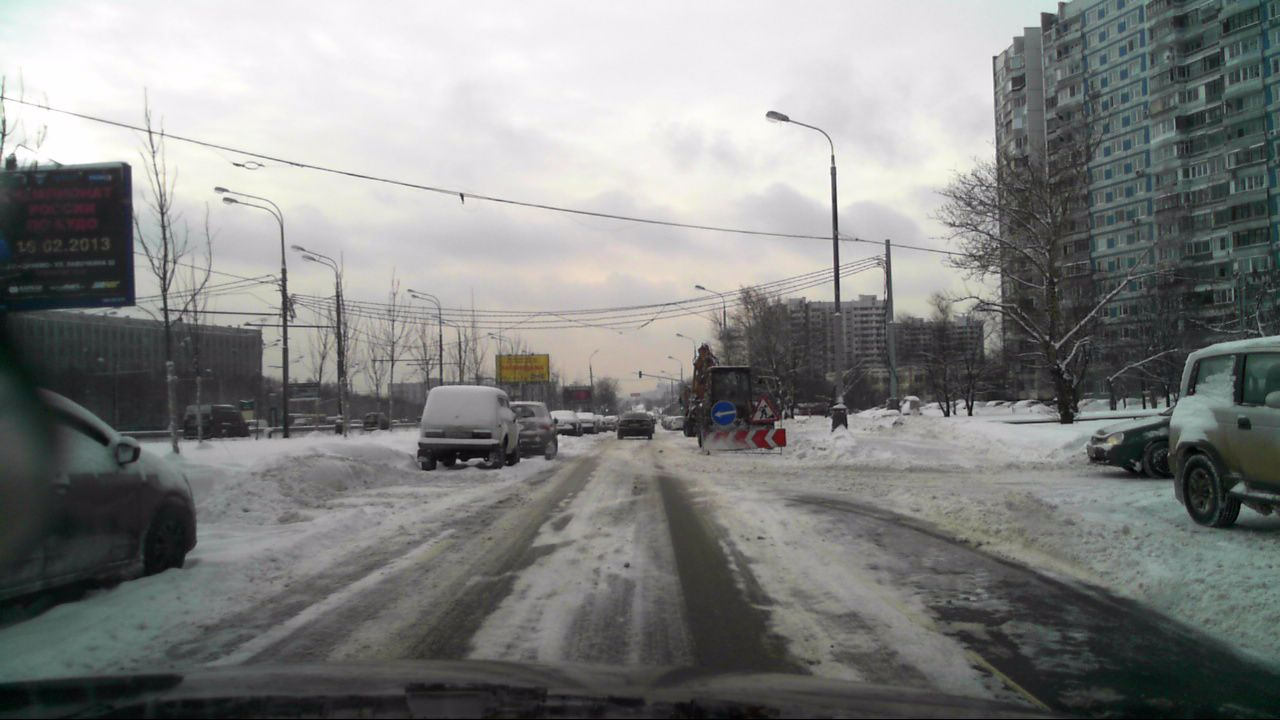Turn Left: (710, 400, 737, 426)
